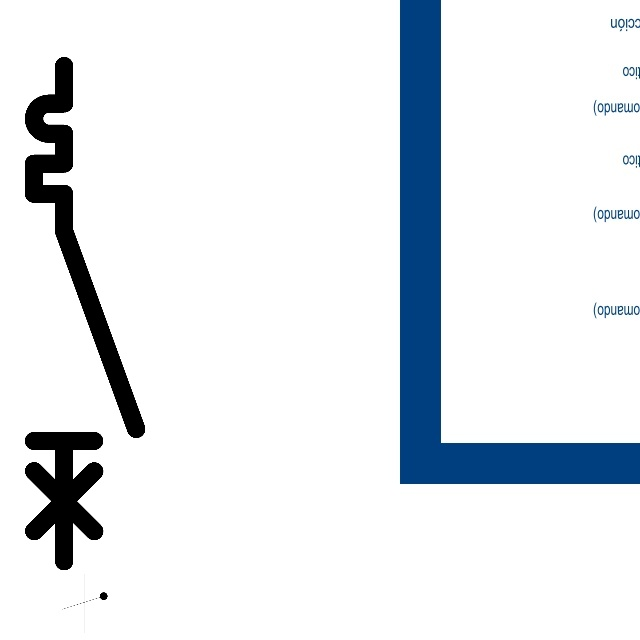interruptor_termomagnetico: (21, 53, 148, 574)
